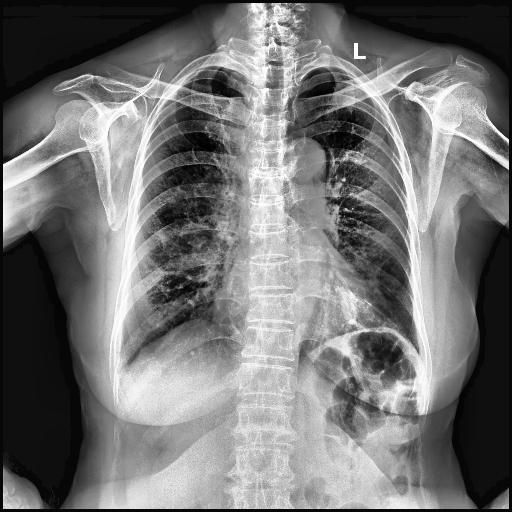0- Aortic enlargement: (278, 138, 328, 208), (286, 138, 328, 197), (280, 137, 326, 183)
3- Cardiomegaly: (210, 274, 380, 330), (211, 287, 385, 325)
